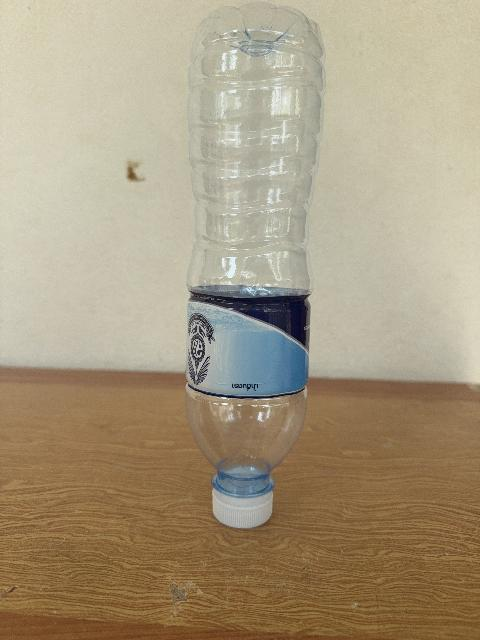bottle: (186, 3, 324, 527)
